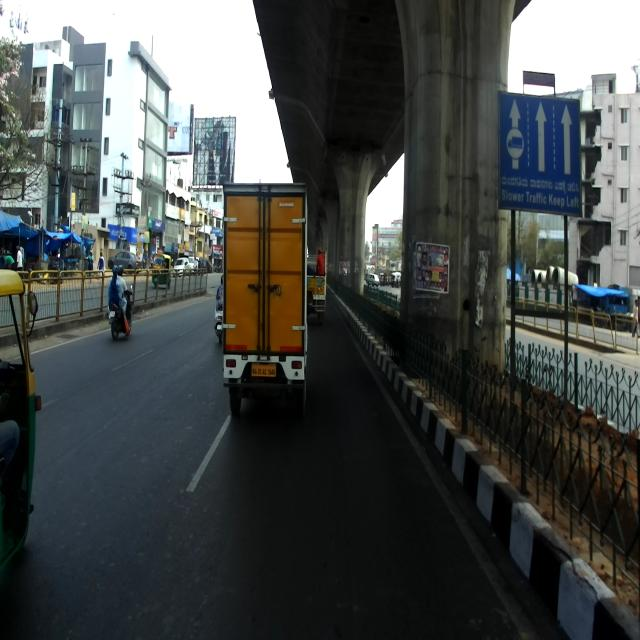motorcycle ahead at: (105, 261, 139, 348)
truck ahead at: (223, 178, 309, 410)
